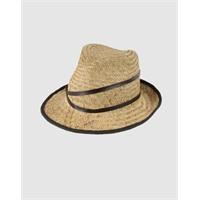hat: (41, 44, 162, 134)
